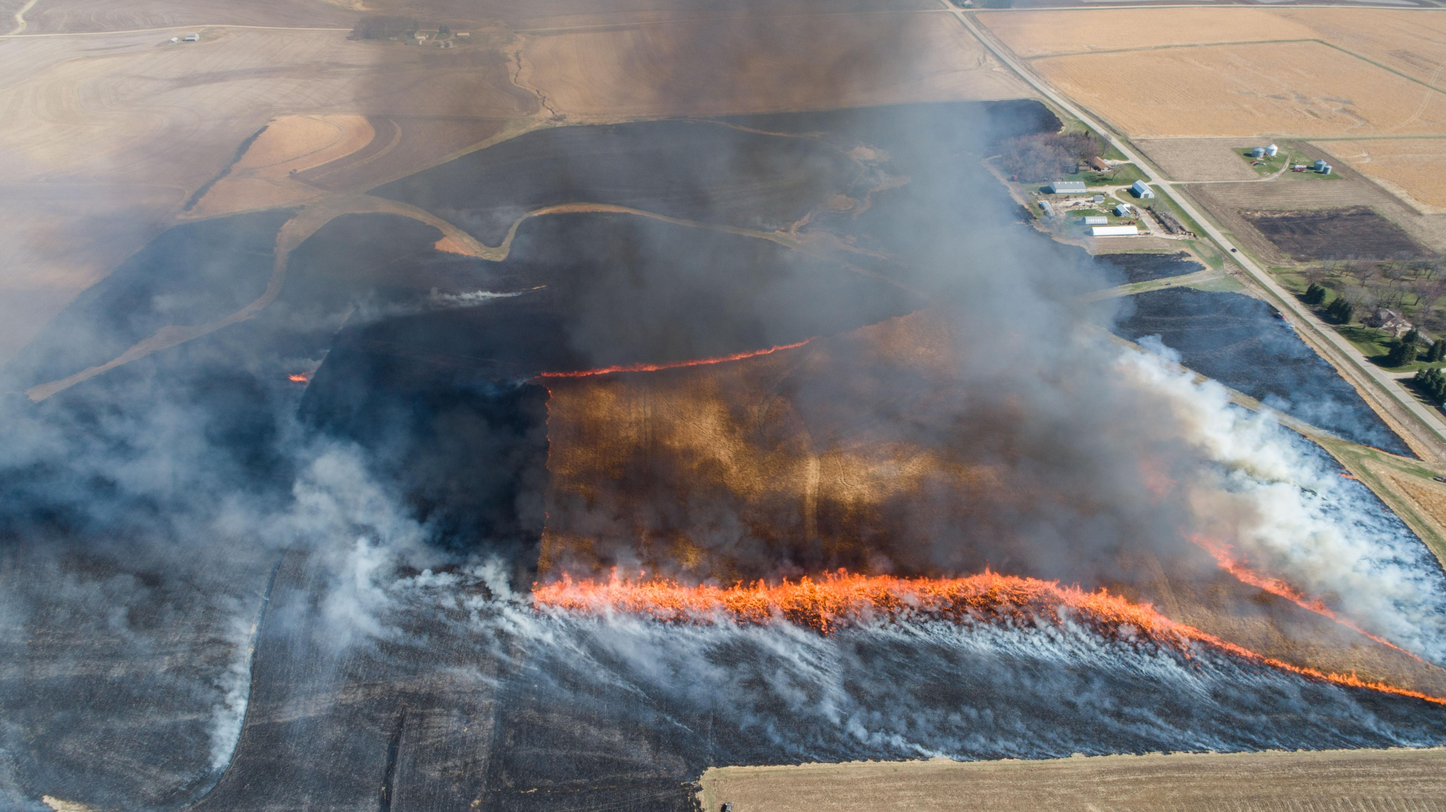fire: (503, 518, 1438, 727), (509, 315, 998, 386)
